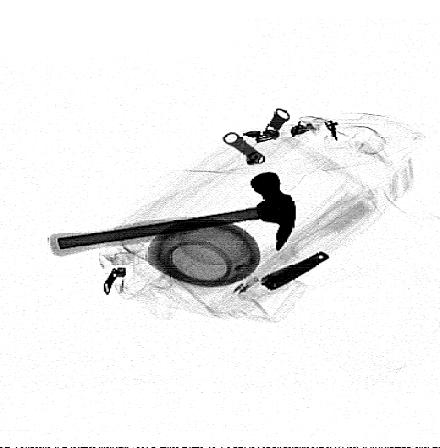Hammer: (48, 171, 298, 257)
